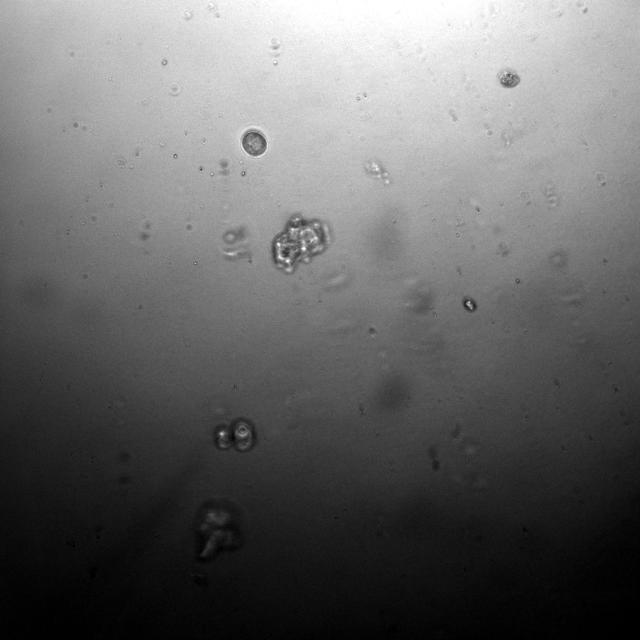organoid: (272, 214, 329, 273), (193, 498, 243, 563), (213, 417, 256, 452), (240, 126, 268, 158), (223, 225, 246, 247), (498, 67, 520, 88), (463, 296, 477, 312)
